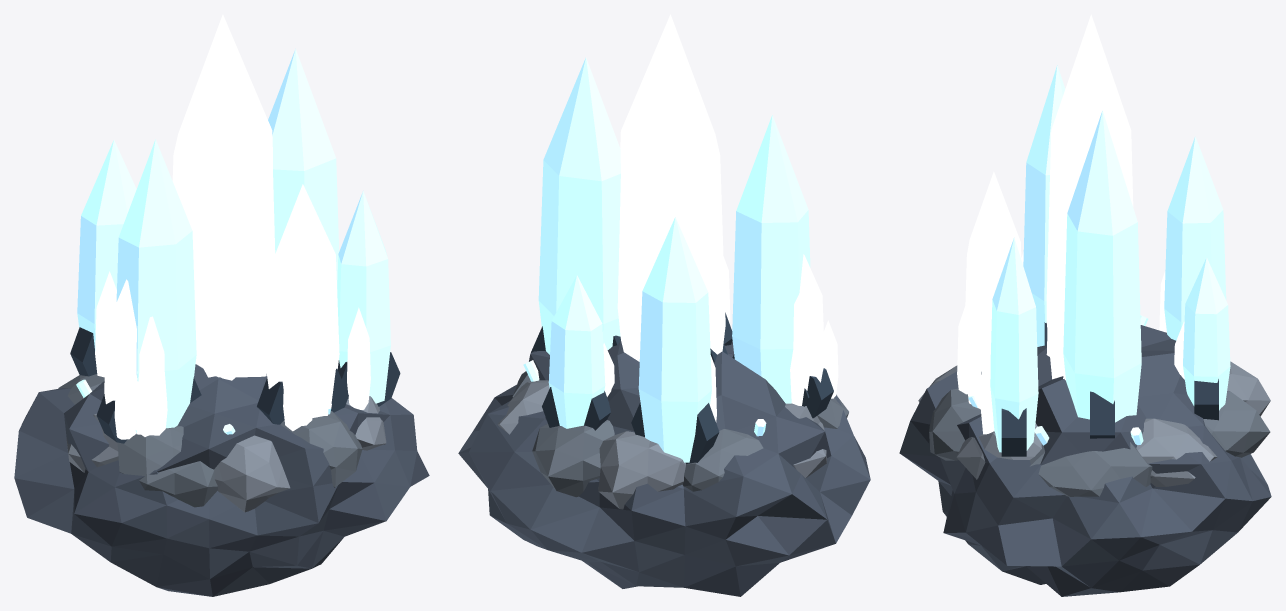
The model's file is ore_Prometid_detail.glb.
The picture shows the model from 3 angles, left to right: view 1: azimuth 30°, elevation 25°; view 2: azimuth 150°, elevation 25°; view 3: azimuth 270°, elevation 25°; orthographic projection.
Visible parts, largest first — view 1: root_fractured_asteroid, crystal_main_0, crystal_main_1, crystal_main_3, crystal_main_2, crystal_main_5, crystal_main_4, rock_armor_4, rock_armor_3, facet_spark_1, crystal_main_6, rock_armor_2 (+12 smaller); view 2: root_fractured_asteroid, crystal_main_0, crystal_main_2, crystal_main_1, crystal_main_4, crystal_main_7, rock_armor_7, rock_armor_8, crystal_main_6, rock_armor_6, rock_armor_9, crystal_socket_4 (+5 smaller); view 3: root_fractured_asteroid, crystal_main_2, crystal_main_0, crystal_main_4, crystal_main_5, crystal_main_3, crystal_main_1, crystal_main_7, rock_armor_0, rock_armor_9, rock_armor_8, rock_armor_2 (+7 smaller).
Boxes of the visible parts, x1,y1,x2,y2 form: root_fractured_asteroid: [14, 364, 429, 596]; crystal_main_0: [172, 14, 275, 377]; crystal_main_1: [116, 139, 196, 428]; crystal_main_3: [266, 184, 339, 417]; crystal_main_2: [268, 49, 339, 288]; crystal_main_5: [337, 191, 390, 403]; crystal_main_4: [77, 140, 136, 350]; rock_armor_4: [117, 425, 217, 507]; rock_armor_3: [214, 435, 290, 512]; facet_spark_1: [136, 316, 167, 436]; crystal_main_6: [104, 279, 138, 435]; rock_armor_2: [280, 411, 362, 487]; root_fractured_asteroid: [458, 341, 870, 596]; crystal_main_0: [617, 14, 725, 361]; crystal_main_2: [538, 57, 620, 354]; crystal_main_1: [732, 115, 810, 403]; crystal_main_4: [638, 217, 711, 462]; crystal_main_7: [548, 275, 605, 428]; rock_armor_7: [598, 431, 685, 509]; rock_armor_8: [532, 420, 614, 497]; crystal_main_6: [790, 254, 824, 405]; rock_armor_6: [682, 429, 763, 491]; rock_armor_9: [497, 380, 549, 434]; crystal_socket_4: [631, 402, 719, 463]; root_fractured_asteroid: [899, 325, 1271, 596]; crystal_main_2: [1063, 110, 1141, 422]; crystal_main_0: [1046, 14, 1133, 379]; crystal_main_4: [1164, 136, 1226, 340]; crystal_main_5: [990, 237, 1038, 452]; crystal_main_3: [964, 171, 1021, 408]; crystal_main_1: [1023, 65, 1065, 346]; crystal_main_7: [1183, 257, 1230, 410]; rock_armor_0: [1029, 442, 1152, 496]; rock_armor_9: [1136, 418, 1217, 486]; rock_armor_8: [1203, 390, 1270, 457]; rock_armor_2: [929, 388, 980, 460].
Size of the model in its own units: 1.83 by 2.71 by 1.64.
